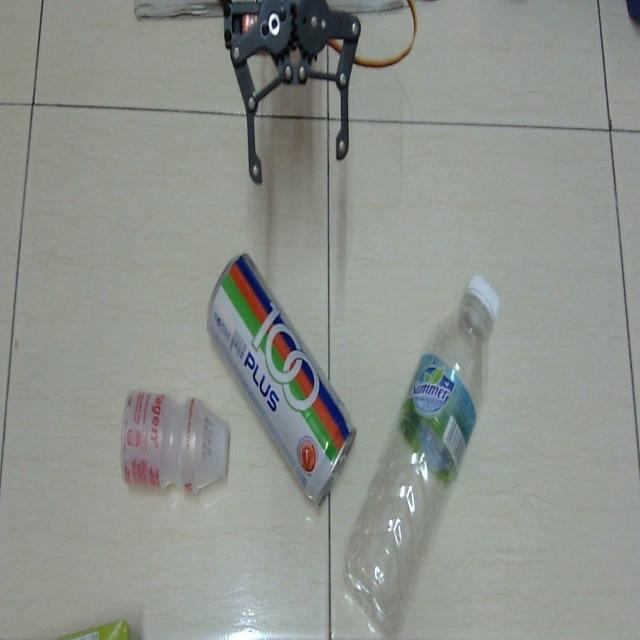Metal-laydown_45left-rotation: (205, 245, 360, 523)
Plastic-laydown_45right-rotation: (342, 263, 504, 639)
Plastic-laydown_90-rotation: (118, 381, 233, 508)
